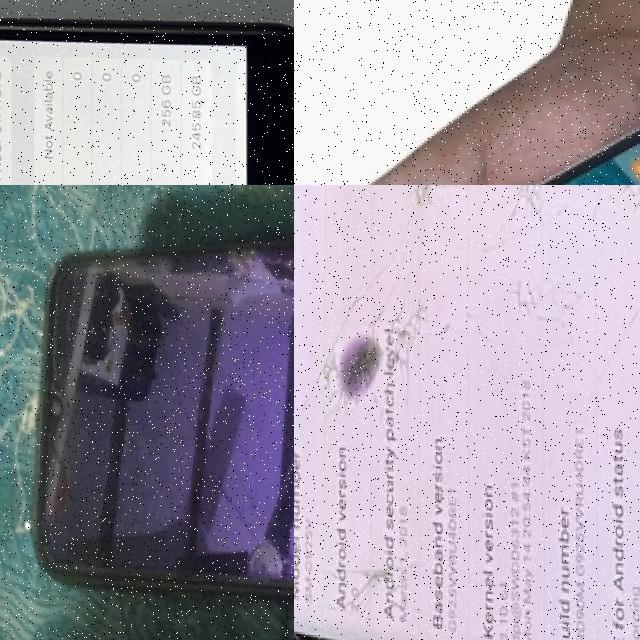screen crack: (124, 324, 294, 594), (489, 185, 640, 344), (294, 527, 408, 640), (400, 185, 483, 214)
